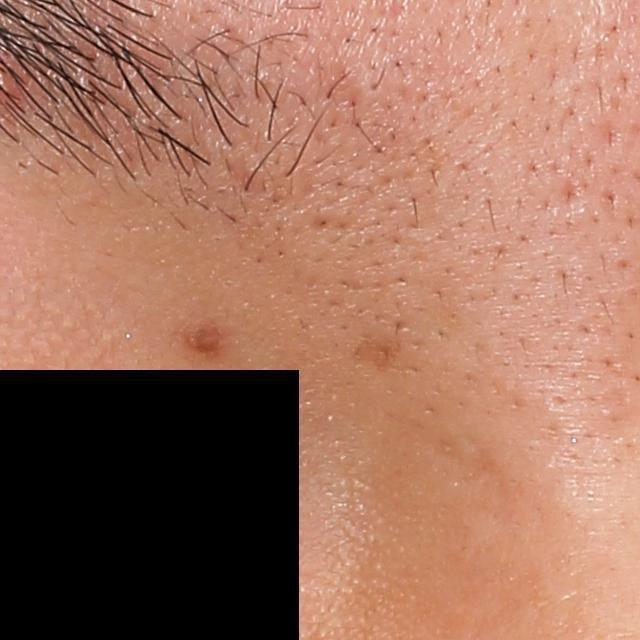melasma: (354, 335, 403, 376)
nevus: (175, 322, 232, 362)
